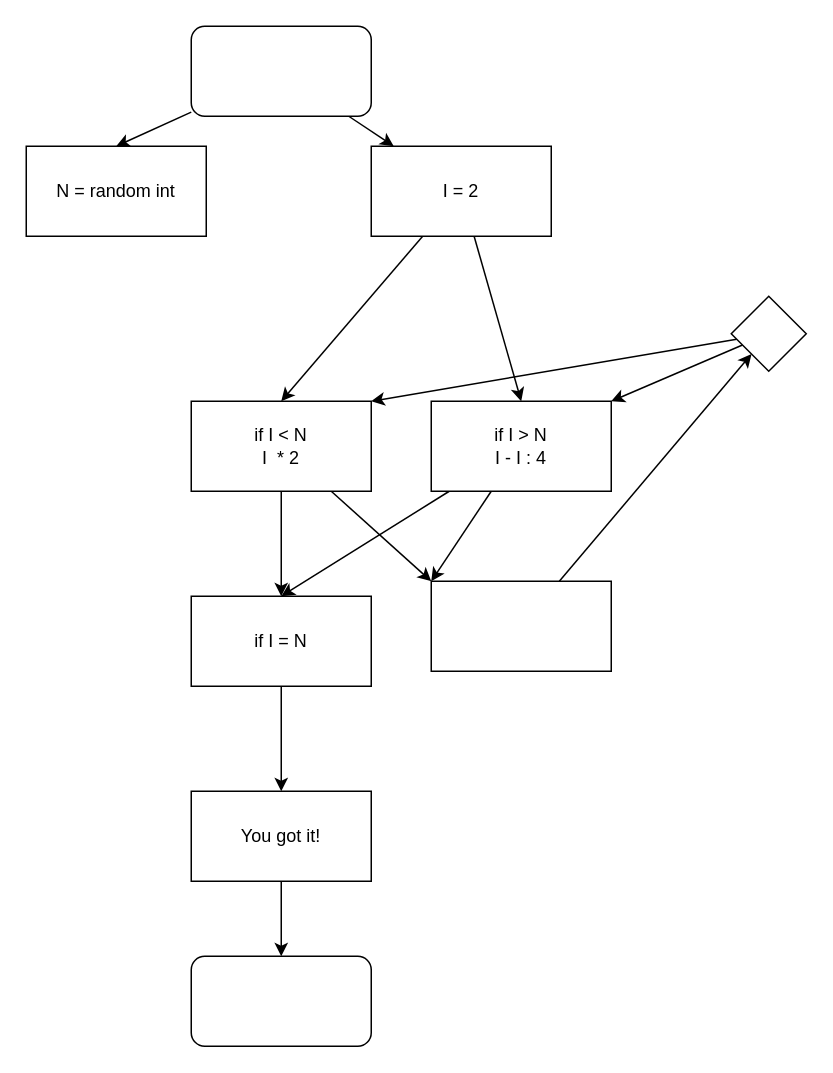
This 833x1073 diagram has some shape labels left out. Here are the shapes that lost their labels. From the top down, the centre of each, then its label:
At pixel 280 70: "start".
At pixel 520 625: "If I != N".
At pixel 280 1000: "End".
